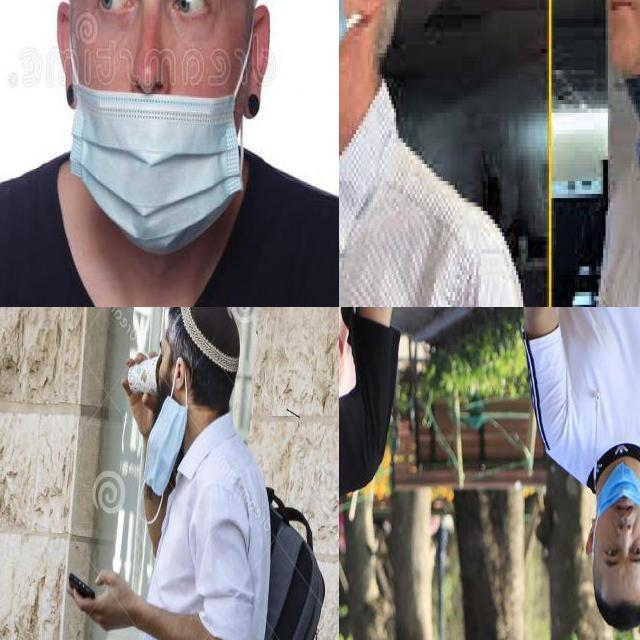hairnet: (65, 44, 247, 251), (591, 463, 638, 544), (156, 340, 182, 406)
no_apron: (76, 569, 147, 633)
